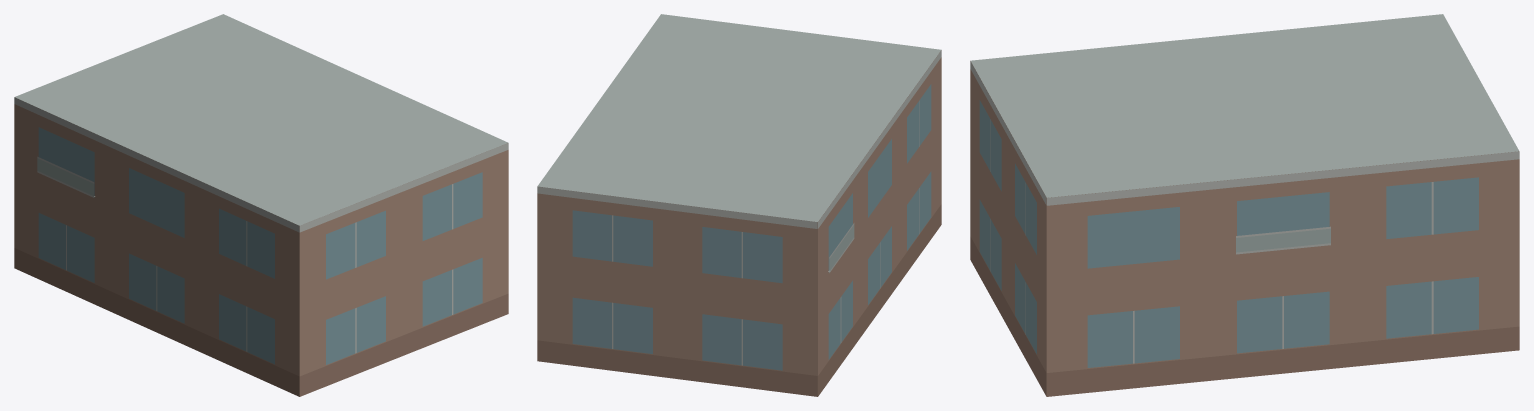
Rendered from survey-upis-32721997.glb.
The picture shows the model from 3 angles, left to right: view 1: azimuth 30°, elevation 25°; view 2: azimuth 150°, elevation 25°; view 3: azimuth 270°, elevation 25°; orthographic projection. The views are drawn at different scales.
Visible parts, largest first — view 1: survey-upis-32721997.tmp; view 2: survey-upis-32721997.tmp; view 3: survey-upis-32721997.tmp.
Boxes of the visible parts, x1=… form: survey-upis-32721997.tmp: x1=14, y1=14, x2=508, y2=396; survey-upis-32721997.tmp: x1=537, y1=14, x2=941, y2=396; survey-upis-32721997.tmp: x1=970, y1=14, x2=1519, y2=396.
Bounding box in the file's own units: 12.1 × 6.1 × 15.27.
